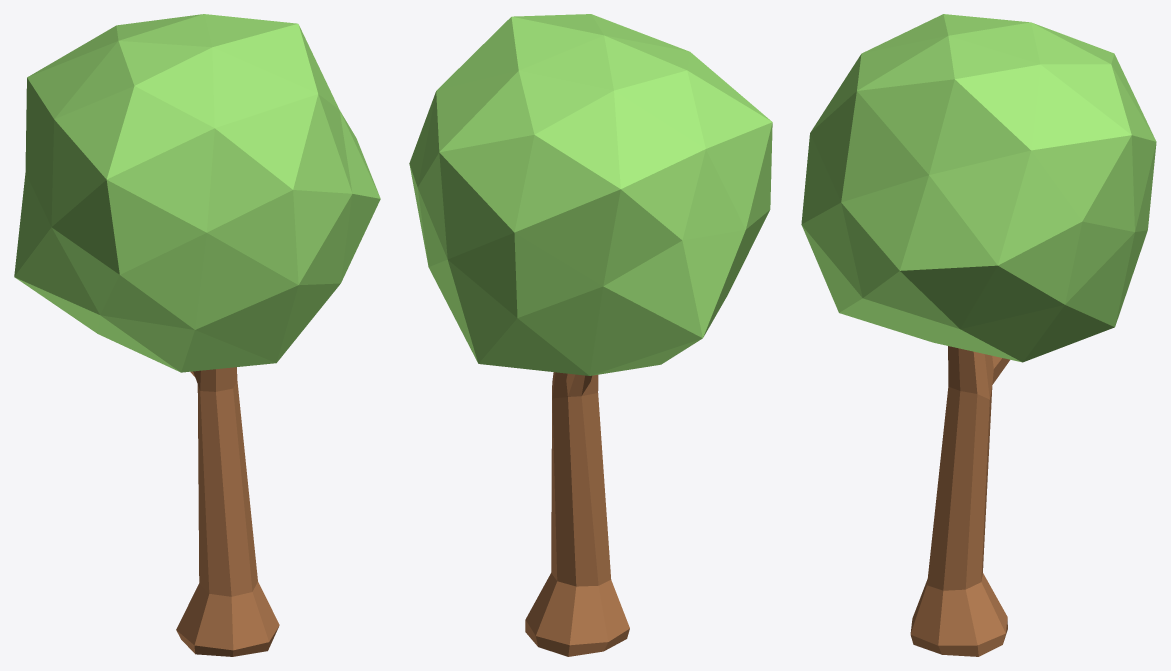
Rendered from Tree7.fbx.
The picture shows the model from 3 angles, left to right: view 1: azimuth 30°, elevation 25°; view 2: azimuth 150°, elevation 25°; view 3: azimuth 270°, elevation 25°; orthographic projection.
Parts seen in each view (by area): view 1: Tree7; view 2: Tree7; view 3: Tree7.
Part boxes in pixels (left/top/right/bottom): Tree7: left=14, top=14, right=380, bottom=656; Tree7: left=409, top=14, right=772, bottom=656; Tree7: left=801, top=14, right=1156, bottom=656.
Bounding box in the file's own units: 305 × 546 × 297.
